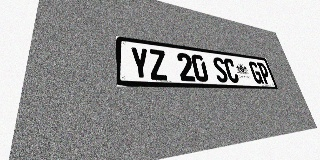0: (190, 54, 209, 82)
2: (176, 52, 196, 81)
C: (223, 58, 240, 83)
G: (248, 61, 264, 84)
P: (256, 62, 272, 84)
S: (211, 57, 229, 83)
Y: (129, 46, 151, 80)
Z: (148, 49, 168, 80)
